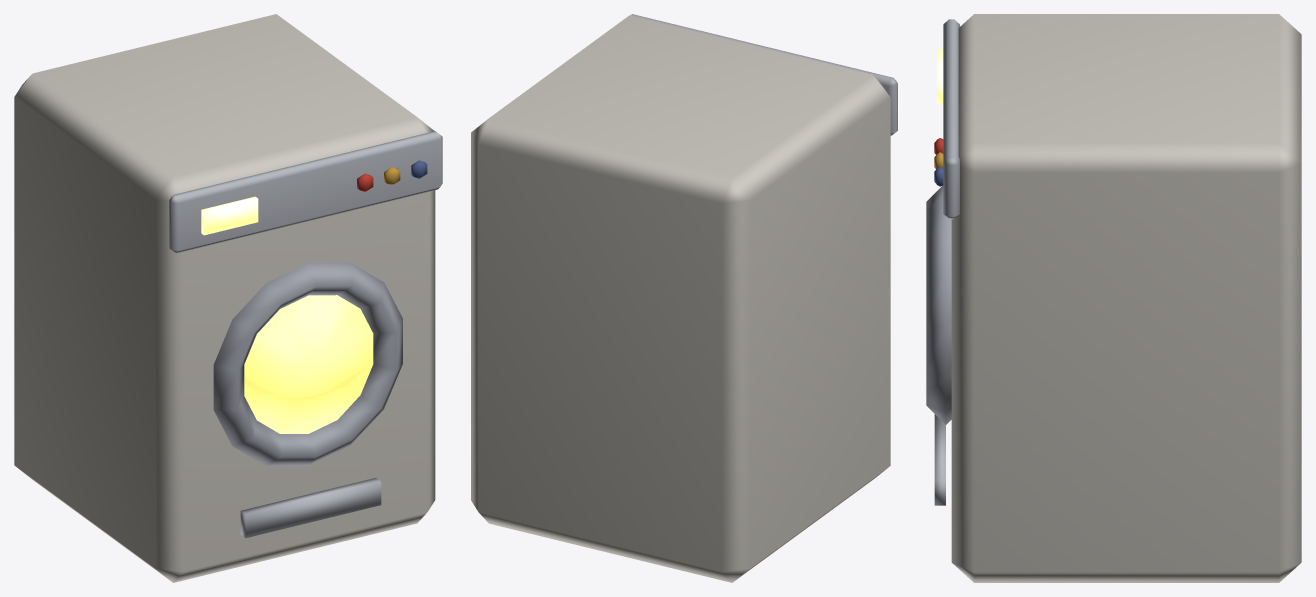
File: dryer.glb
3 views of the same model, side by side, from view 1: azimuth 30°, elevation 25°; view 2: azimuth 150°, elevation 25°; view 3: azimuth 270°, elevation 25° (orthographic). The views are drawn at different scales.
Parts seen in each view (by area): view 1: dryer, door, drum; view 2: dryer; view 3: dryer, door.
Boxes of the visible parts, x1,y1,x2,y2 form: dryer: (14,14,442,582); door: (213,262,402,465); drum: (244,295,373,433); dryer: (471,14,897,582); dryer: (934,14,1301,582); door: (926,185,951,424).
Bounding box in the file's own units: 0.62 × 0.86 × 0.665.
